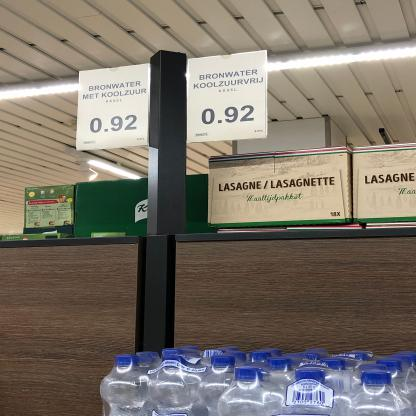prtg: (187, 51, 268, 145), (77, 65, 150, 153)
